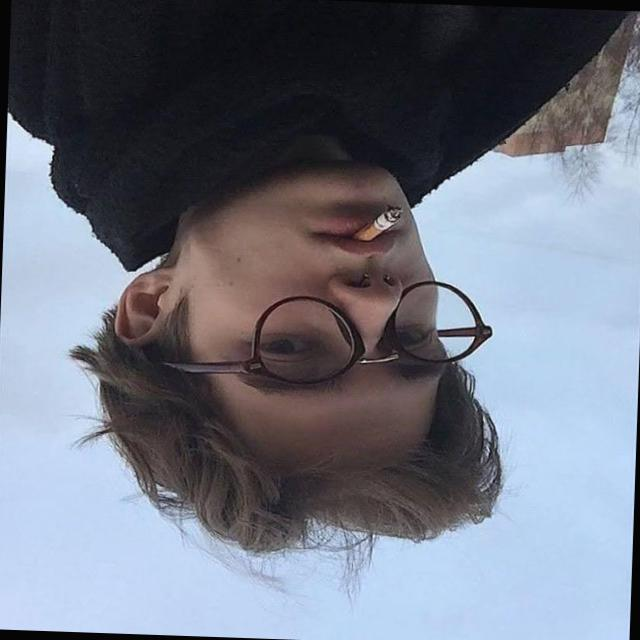smoke: (336, 190, 416, 261)
